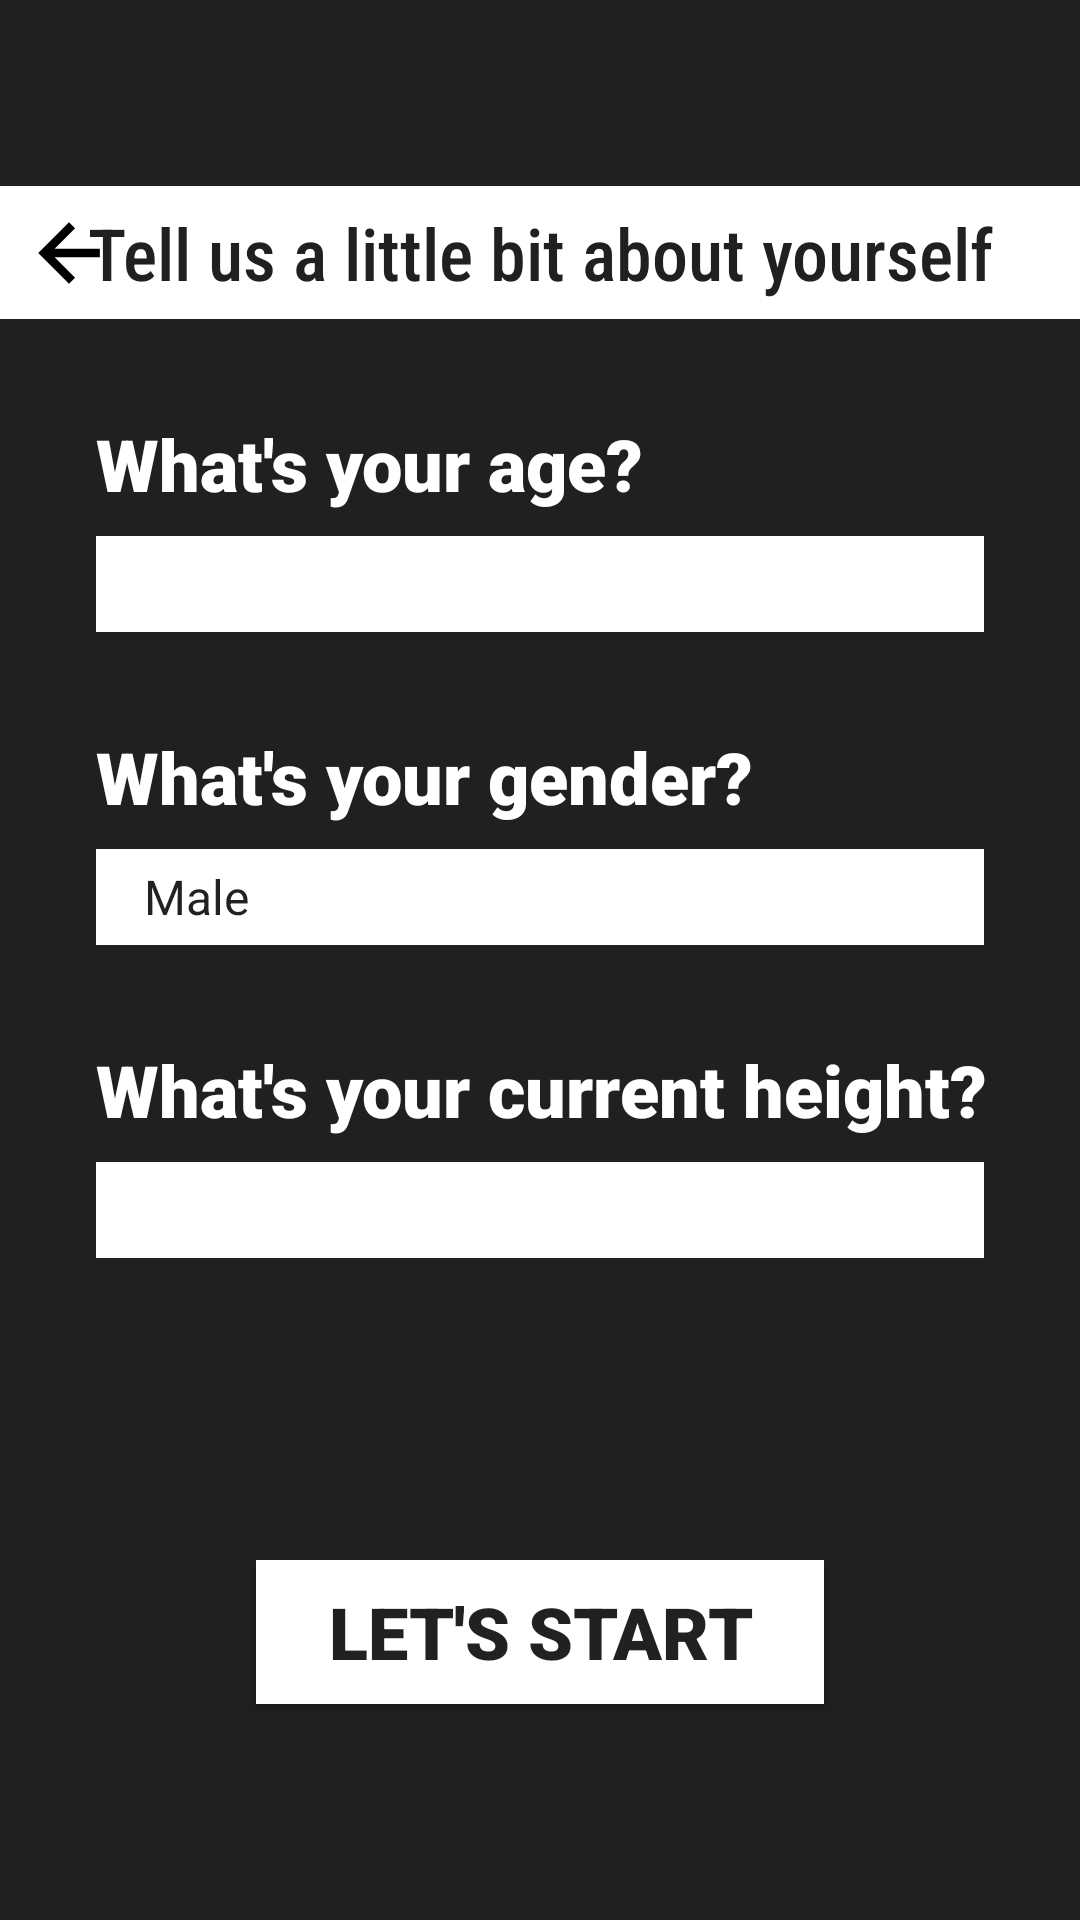

Locate icon controls on the screen. Image size 1080 × 1920, boxes as (x1, y1, x2, y2).
arrow back: (38, 222, 100, 284)
